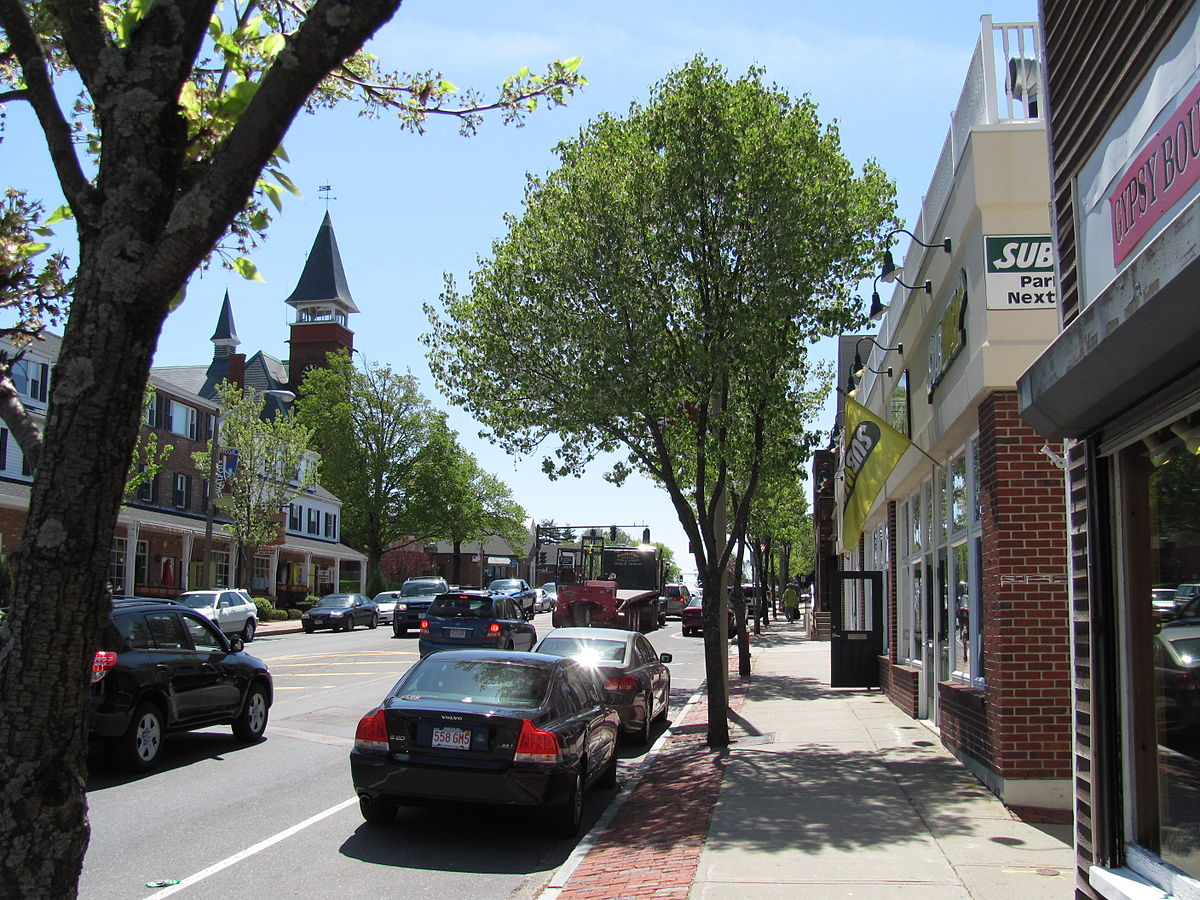tree: (416, 47, 910, 755)
